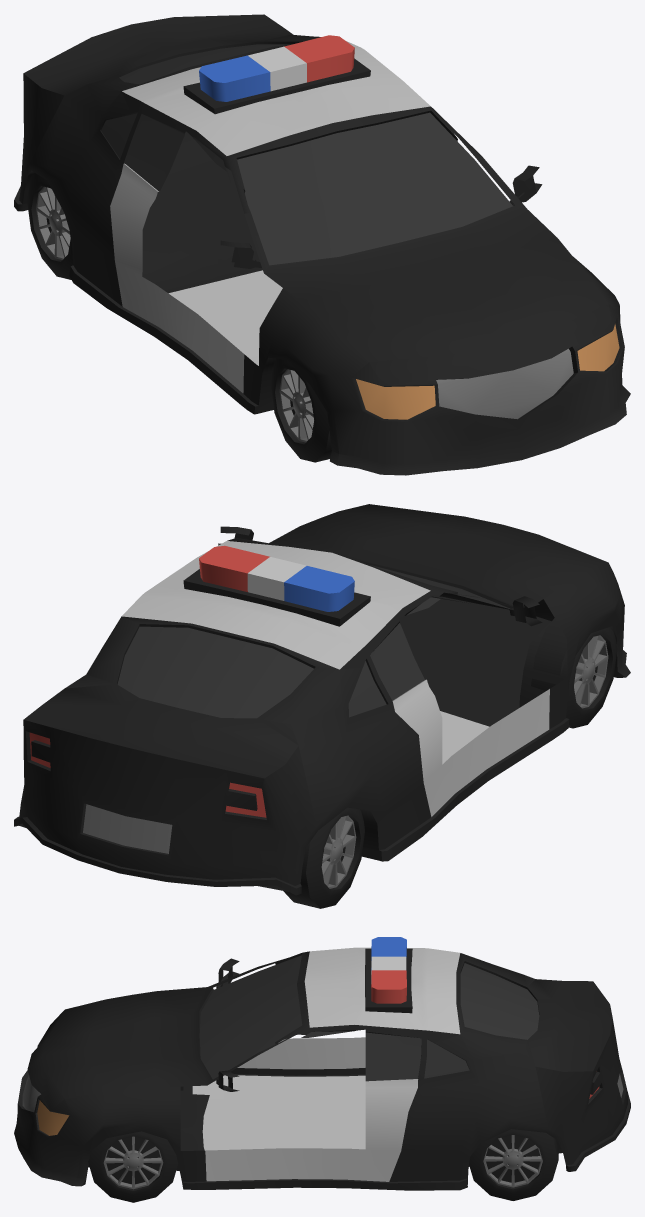
File: police-body.glb
3 views of the same model, one above another, from view 1: azimuth 30°, elevation 25°; view 2: azimuth 150°, elevation 25°; view 3: azimuth 270°, elevation 25° (orthographic). The views are drawn at different scales.
Bounding box in the file's own units: 1.74 × 1.24 × 3.73.
Materials: 1 (1 with a texture image).
